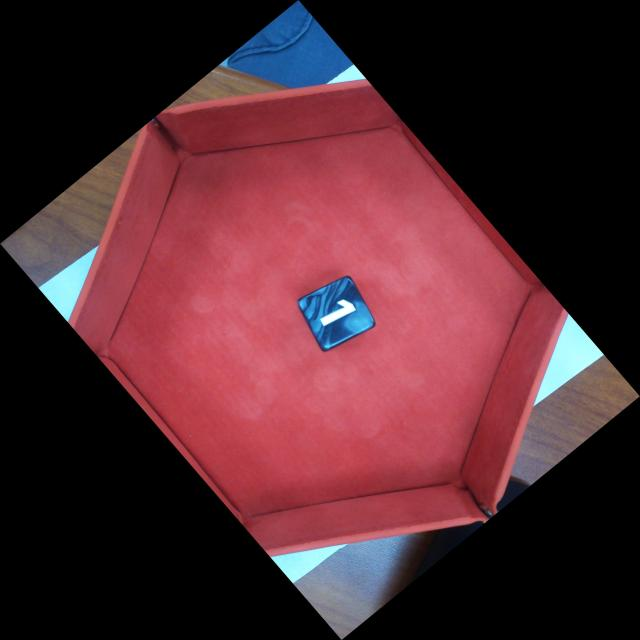dice: (294, 273, 378, 354)
